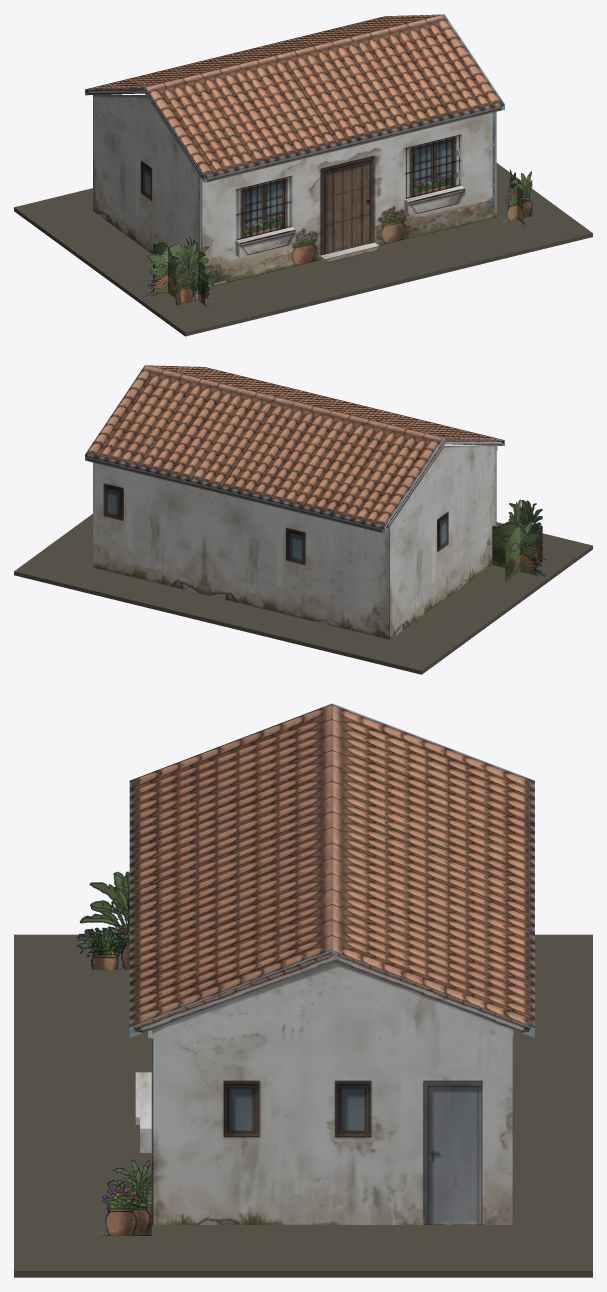
Rendered from casa_andaluza_5v.glb.
The picture shows the model from 3 angles, top to bottom: view 1: azimuth 30°, elevation 25°; view 2: azimuth 150°, elevation 25°; view 3: azimuth 270°, elevation 25°; orthographic projection. The views are drawn at different scales.
Parts seen in each view (by area): view 1: CA5_Casa, CA5_Suelo, CA5_Plantas; view 2: CA5_Casa, CA5_Suelo, CA5_Plantas; view 3: CA5_Casa, CA5_Suelo, CA5_Plantas.
Boxes of the visible parts, bbox=[...] form: CA5_Casa: bbox=[85, 14, 504, 286]; CA5_Suelo: bbox=[14, 163, 592, 336]; CA5_Plantas: bbox=[142, 169, 532, 308]; CA5_Casa: bbox=[85, 365, 504, 639]; CA5_Suelo: bbox=[14, 514, 592, 674]; CA5_Plantas: bbox=[492, 499, 545, 582]; CA5_Casa: bbox=[129, 703, 534, 1224]; CA5_Suelo: bbox=[14, 934, 592, 1277]; CA5_Plantas: bbox=[76, 871, 151, 1235].
Bounding box in the file's own units: 11 × 4.3 × 8.
3 materials, 2 textured.
